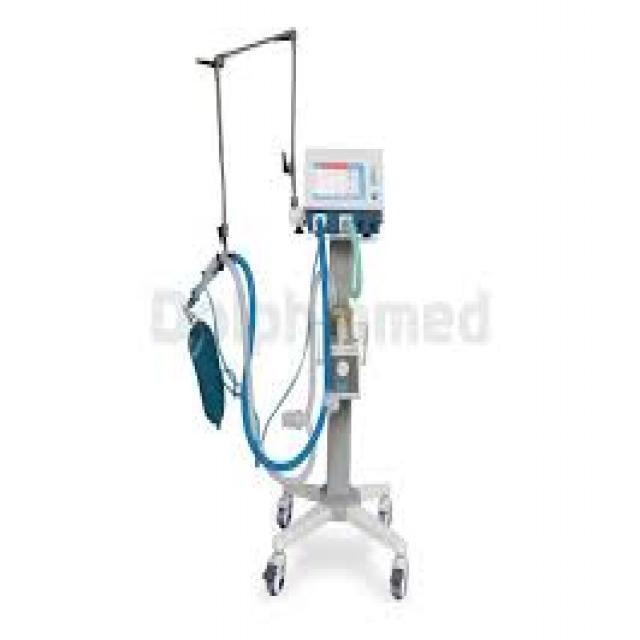ventilator: (184, 23, 435, 601)
